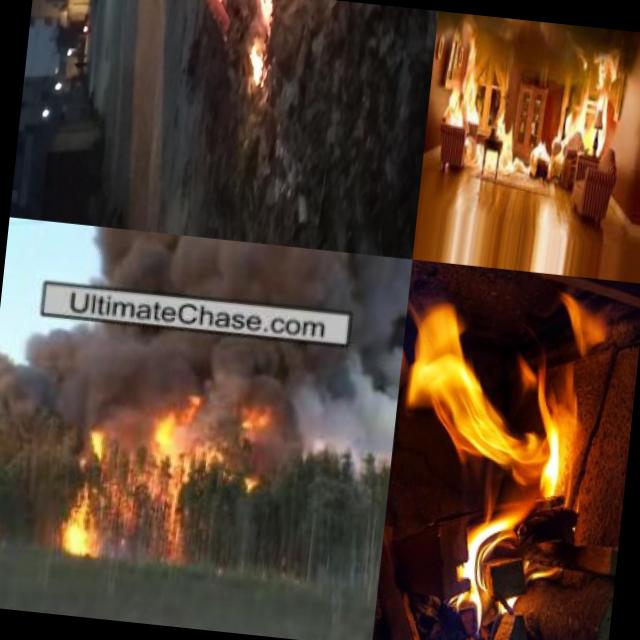fire: (116, 0, 325, 247), (392, 274, 584, 522), (54, 383, 268, 580), (583, 52, 618, 156), (458, 32, 487, 128), (479, 114, 518, 174), (549, 104, 578, 165), (441, 76, 467, 138), (529, 131, 552, 165), (0, 517, 7, 558)
smoke: (4, 312, 275, 404), (264, 340, 402, 478)
